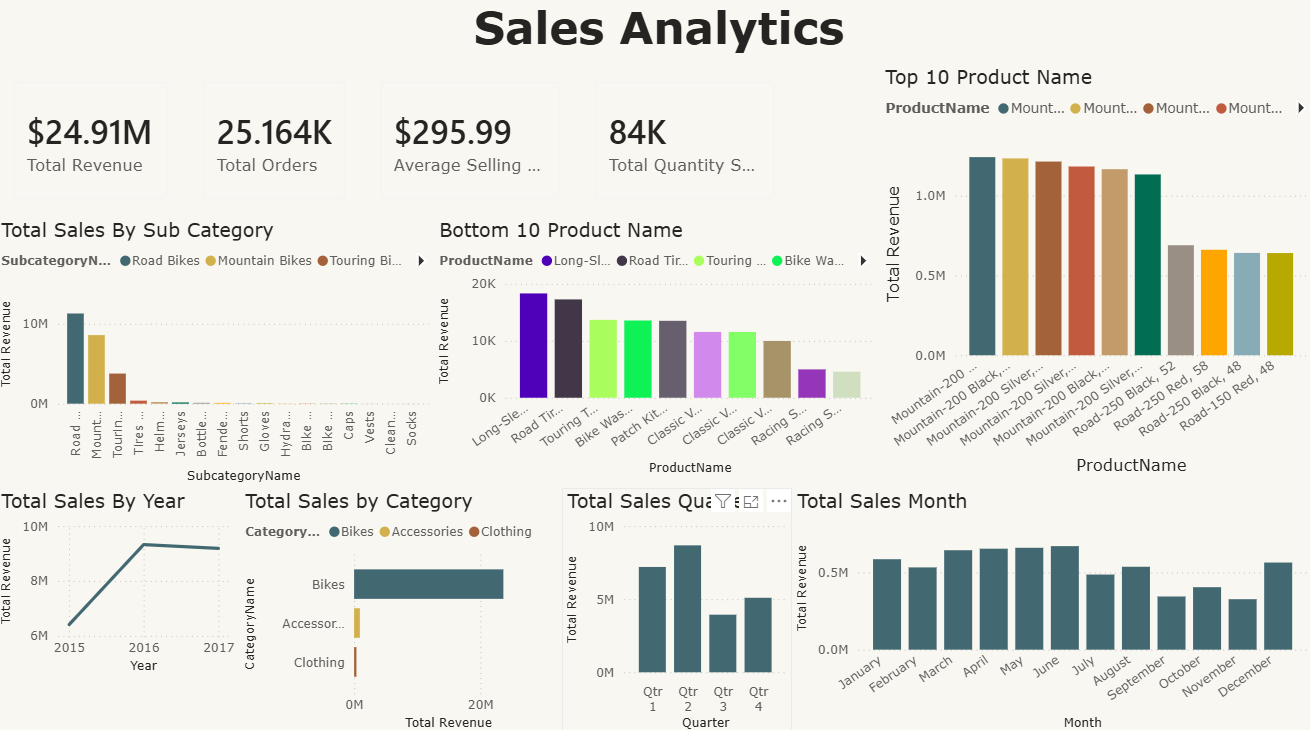

The page's visual inventory and layout, read from the dashboard file:
{"tool":"tableau","page":{"name":"Dashboard 1","canvas":[1000,1000],"units":"permille","ordinal":0},"visuals":[{"type":"text","box":[4.7,8.8,990.6,90.7]},{"type":"worksheet","title":"Sheet 3","mark":"Automatic","box":[4.7,99.6,111,163.7]},{"type":"worksheet","title":"Sheet 5","mark":"Automatic","box":[115.7,99.6,111,163.7]},{"type":"worksheet","title":"Sheet 4","mark":"Automatic","box":[226.7,99.6,113.3,163.7]},{"type":"worksheet","title":"Sheet 6","mark":"Automatic","box":[339.9,99.6,113.2,163.7]},{"type":"worksheet","title":"Sheet 2","mark":"Automatic","box":[453.2,99.6,228.5,218.9]},{"type":"worksheet","title":"Sheet 1","mark":"Automatic","box":[681.7,99.6,220,129.5]},{"type":"legend","title":"Sheet 7","param":"[federated.1aws9jr1iyr5lv11f7j1b1no7b1o].[:Measure Names]","box":[901.7,99.6,93.6,50.9]},{"type":"legend","title":"Sheet 9","param":"[federated.1aws9jr1iyr5lv11f7j1b1no7b1o].[sum:Sales:qk]","box":[901.7,150.5,93.6,71.9]},{"type":"legend","title":"Sheet 10","param":"[federated.1aws9jr1iyr5lv11f7j1b1no7b1o].[none:Gender:nk]","box":[901.7,222.3,93.6,95.1]},{"type":"worksheet","title":"Sheet 8","mark":"Automatic","rows":["Sales"],"cols":["CategoryName"],"box":[681.7,229.1,220,316.3]},{"type":"worksheet","title":"Sheet 7","mark":"Automatic","rows":["Sales"],"cols":["OrderDate"],"box":[4.7,263.2,448.5,309.2]},{"type":"legend","title":"Sheet 10","param":"[federated.1aws9jr1iyr5lv11f7j1b1no7b1o].[sum:Sales:qk]","box":[901.7,317.5,93.6,50.9]},{"type":"worksheet","title":"Sheet 11","mark":"Automatic","rows":["Sales"],"cols":["Year"],"box":[453.2,318.4,228.5,672.7]},{"type":"legend","title":"Sheet 11","param":"[federated.1aws9jr1iyr5lv11f7j1b1no7b1o].[none:Year:nk]","box":[901.7,368.4,93.6,95.1]},{"type":"legend","title":"Sheet 8","param":"[federated.1aws9jr1iyr5lv11f7j1b1no7b1o].[none:CategoryName:nk]","box":[901.7,463.5,93.6,95.1]},{"type":"worksheet","title":"Sheet 10","mark":"Pie","box":[681.7,545.4,220,445.8]},{"type":"worksheet","title":"Sheet 9","mark":"Automatic","box":[4.7,572.5,448.5,418.7]}]}

Visuals, with their boxes on the dashboard's canvas, which has no fixed pixel size, in thousandths of its width and height (x1, y1, x2, y2). These are canvas units, not pixel positions in the 1310x730 screenshot, which may show the page scaled, cropped or inside an application window:
text: [x1=5, y1=9, x2=995, y2=100]
"Sheet 3" worksheet: [x1=5, y1=100, x2=116, y2=263]
"Sheet 5" worksheet: [x1=116, y1=100, x2=227, y2=263]
"Sheet 4" worksheet: [x1=227, y1=100, x2=340, y2=263]
"Sheet 6" worksheet: [x1=340, y1=100, x2=453, y2=263]
"Sheet 2" worksheet: [x1=453, y1=100, x2=682, y2=318]
"Sheet 1" worksheet: [x1=682, y1=100, x2=902, y2=229]
"Sheet 7" legend: [x1=902, y1=100, x2=995, y2=150]
"Sheet 9" legend: [x1=902, y1=150, x2=995, y2=222]
"Sheet 10" legend: [x1=902, y1=222, x2=995, y2=317]
"Sheet 8" worksheet: [x1=682, y1=229, x2=902, y2=545]
"Sheet 7" worksheet: [x1=5, y1=263, x2=453, y2=572]
"Sheet 10" legend: [x1=902, y1=318, x2=995, y2=368]
"Sheet 11" worksheet: [x1=453, y1=318, x2=682, y2=991]
"Sheet 11" legend: [x1=902, y1=368, x2=995, y2=464]
"Sheet 8" legend: [x1=902, y1=464, x2=995, y2=559]
"Sheet 10" worksheet (Pie marks): [x1=682, y1=545, x2=902, y2=991]
"Sheet 9" worksheet: [x1=5, y1=572, x2=453, y2=991]
